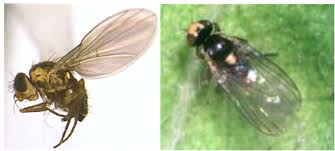Trifoli: (180, 17, 311, 143), (9, 16, 137, 139)
